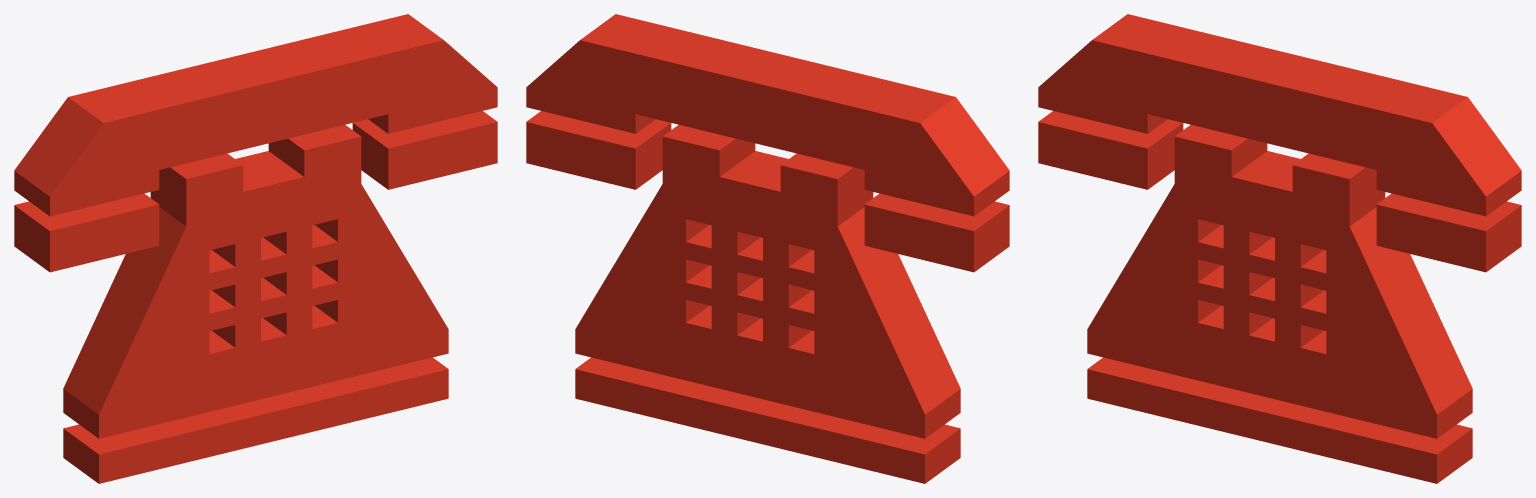
The model's file is Icon_Telephone_03.fbx.
3 views of the same model, side by side, from view 1: azimuth 30°, elevation 25°; view 2: azimuth 150°, elevation 25°; view 3: azimuth 330°, elevation 25° (orthographic).
Parts seen in each view (by area): view 1: Icon_Telephone_03; view 2: Icon_Telephone_03; view 3: Icon_Telephone_03.
Boxes of the visible parts, <box> form: Icon_Telephone_03: <box>14,14,497,483</box>; Icon_Telephone_03: <box>526,14,1009,483</box>; Icon_Telephone_03: <box>1038,14,1521,483</box>.
Size of the model in its own units: 87.34 by 67.02 by 12.06.
